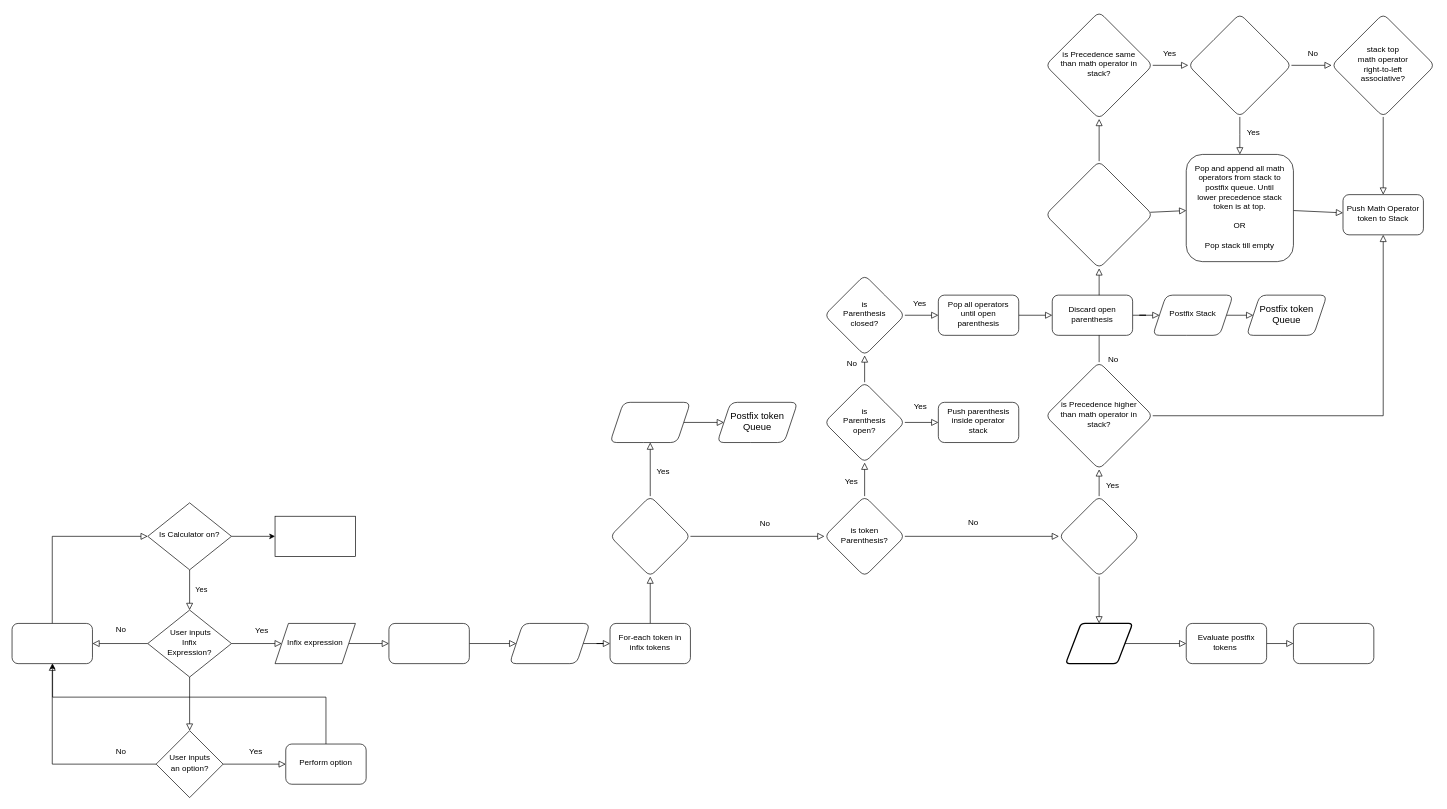
The diagram is 1447 pixels wide and 809 high, and some of its shapes have lost their labels. The box of each missing label's shape, as (x1, y1, x2, y2) in pixels:
Exit: (274, 516, 355, 556)
Infix tokens: (509, 623, 590, 664)
is Precedence lower than math operator in stack?: (1045, 160, 1153, 268)
Is token Math Operator?: (1058, 495, 1139, 577)
is token Number?: (609, 495, 690, 577)
Loop: (11, 623, 92, 664)
Number: (609, 402, 690, 443)
Postfix Tokens: (1065, 622, 1133, 664)
Print results: (1293, 623, 1374, 664)
Spilt as tokens: (388, 623, 469, 664)
stack top math operator left-to-right associative?: (1188, 13, 1291, 117)
